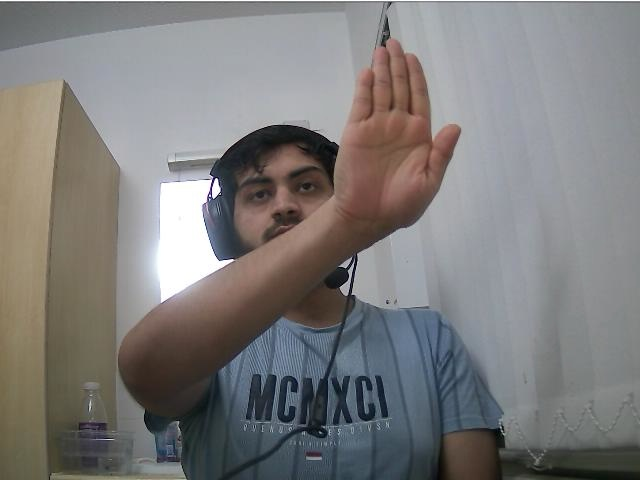up: (336, 38, 434, 228)
